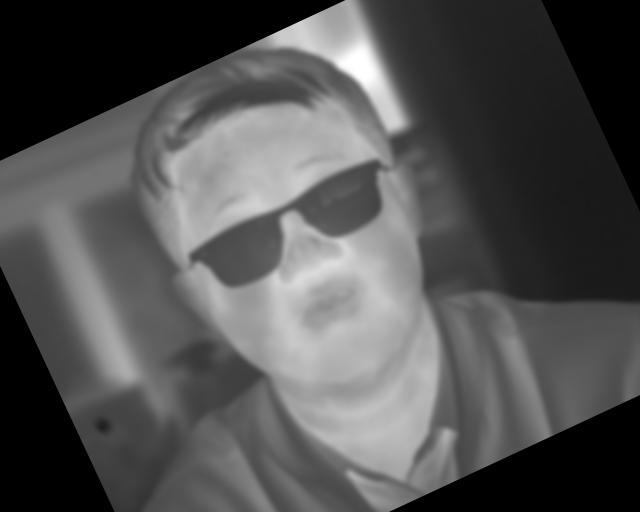face: (193, 252, 289, 370), (287, 327, 361, 418)
